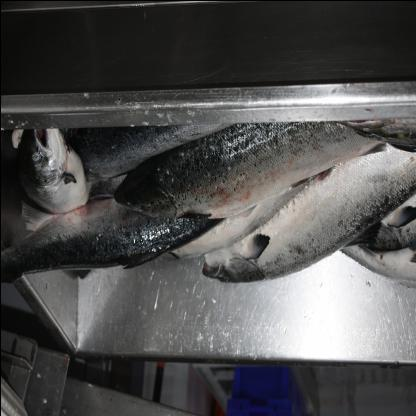fish: (110, 106, 415, 223), (198, 139, 415, 294)
